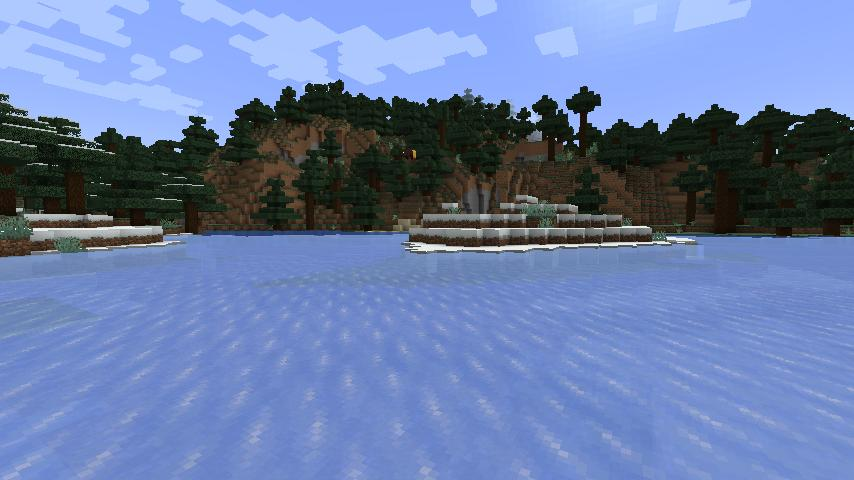bee: (403, 148, 417, 160)
